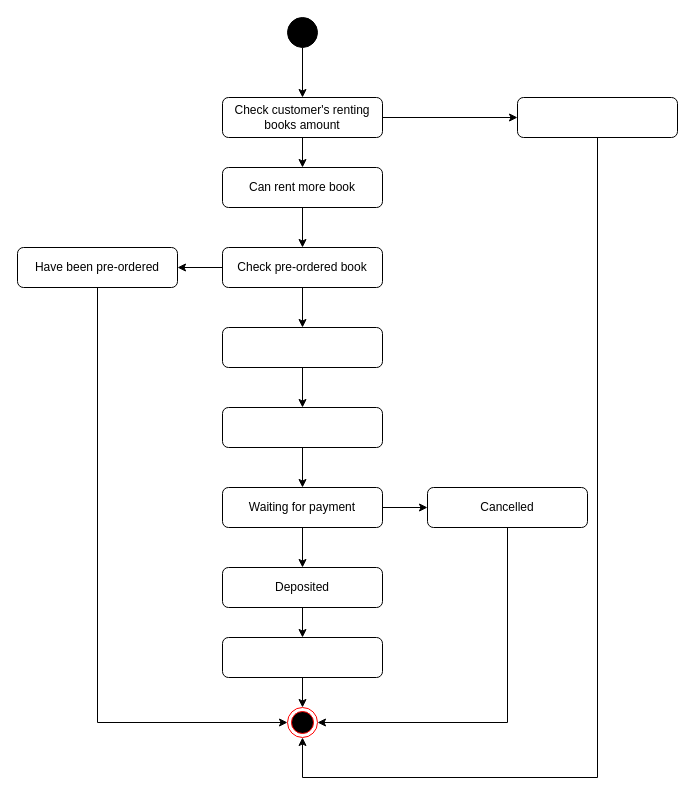
Image size: 695x803. Some labels were removed from this diagram. The centre of each missing label's shape, as x and y in pixels:
Created order: (x=302, y=427)
Exceed the maximum number of books rented: (x=597, y=117)
Finished: (x=302, y=657)
Have not been pre-ordered: (x=302, y=347)
